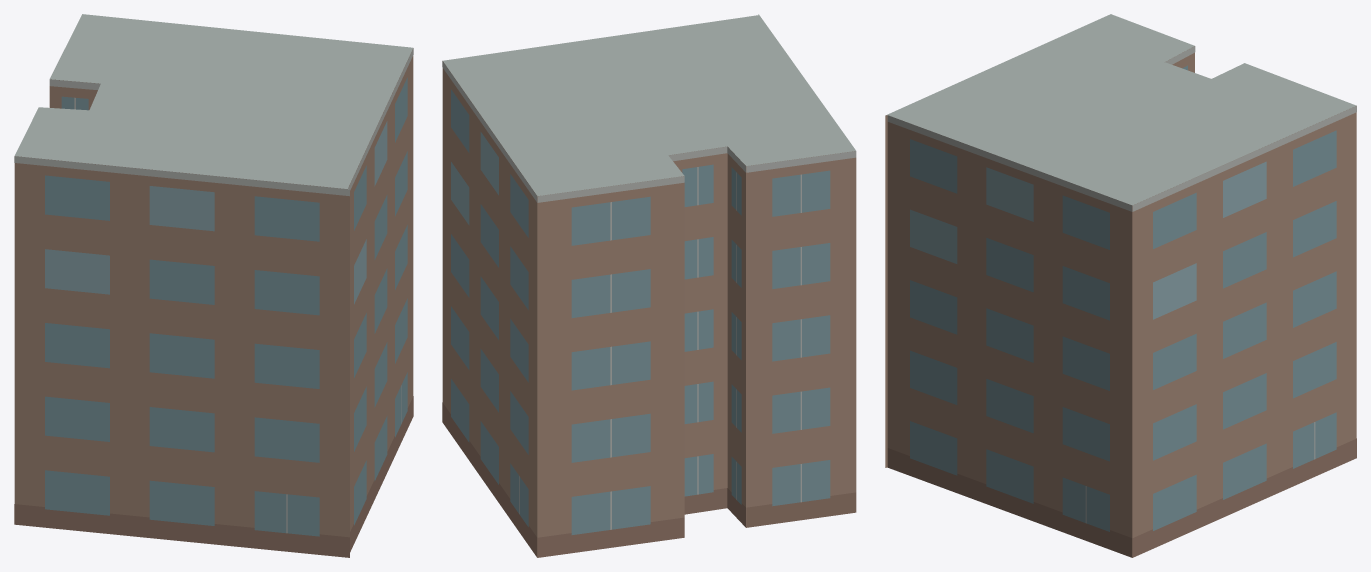
Rendered from survey-upis-32778365.glb.
The picture shows the model from 3 angles, left to right: view 1: azimuth 30°, elevation 25°; view 2: azimuth 150°, elevation 25°; view 3: azimuth 270°, elevation 25°; orthographic projection. The views are drawn at different scales.
Visible parts, largest first — view 1: survey-upis-32778365.tmp; view 2: survey-upis-32778365.tmp; view 3: survey-upis-32778365.tmp.
Part boxes in pixels (x1,y1,x2,y2): survey-upis-32778365.tmp: (14, 14, 413, 557); survey-upis-32778365.tmp: (442, 14, 856, 557); survey-upis-32778365.tmp: (885, 14, 1356, 557).
Size of the model in its own units: 15.27 by 13.1 by 15.9.
